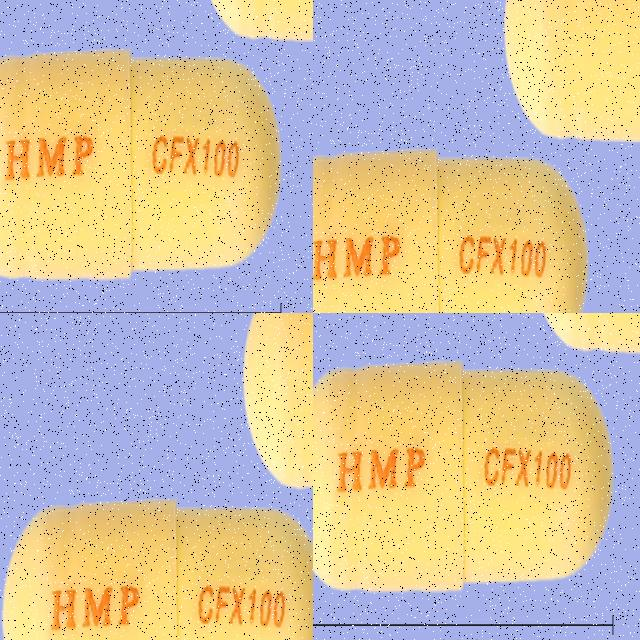Cefix Cap: (313, 357, 616, 597)
Ciroctan: (0, 24, 280, 288)
Clarione: (0, 473, 295, 640)
Clarithromycin Tab- LGCI: (313, 120, 557, 313), (531, 0, 640, 174)
